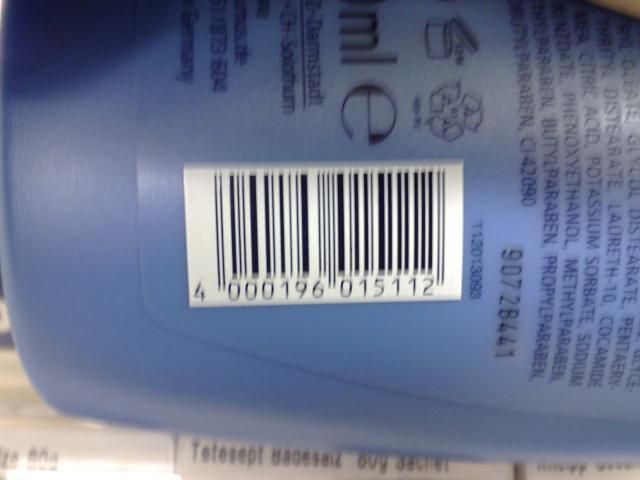Barcode: (183, 158, 464, 309)
